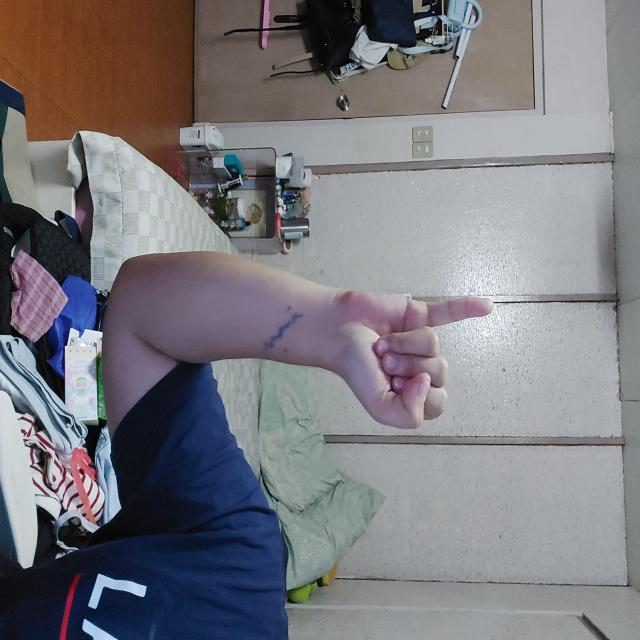I: (290, 146, 430, 304)
